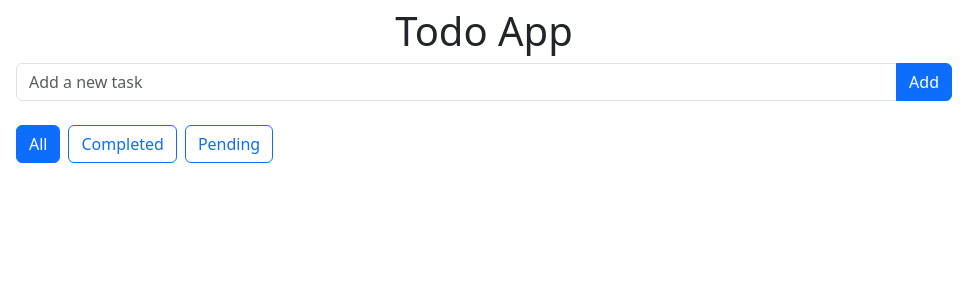
App Component › filters tasks correctly
Note: Add two tasks
Type "Task 1" into the field with placeholder "Add a new task".
click(457, 82); type("Task 1")  # box [16, 63, 897, 101]
Click the button "Add".
click(924, 82)  # box [896, 63, 952, 101]
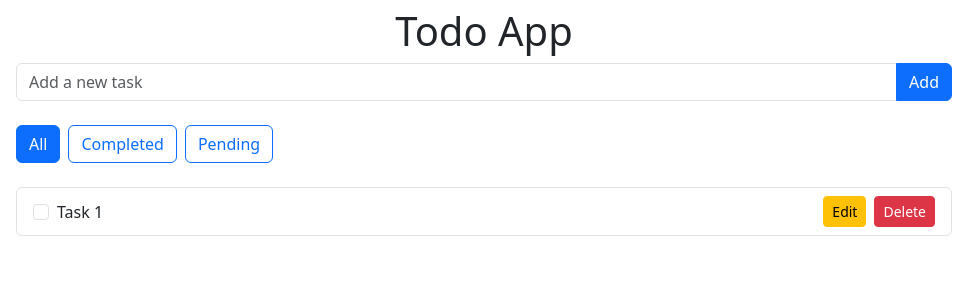
Type "Task 2" into the field with placeholder "Add a new task".
click(457, 82); type("Task 2")  # box [16, 63, 897, 101]
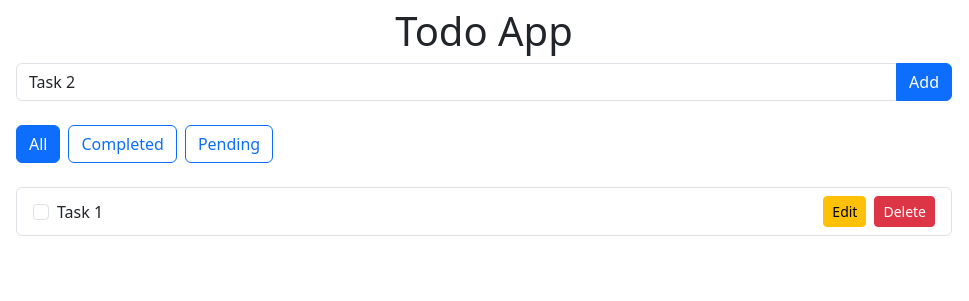
Click the button "Add".
click(924, 82)  # box [896, 63, 952, 101]
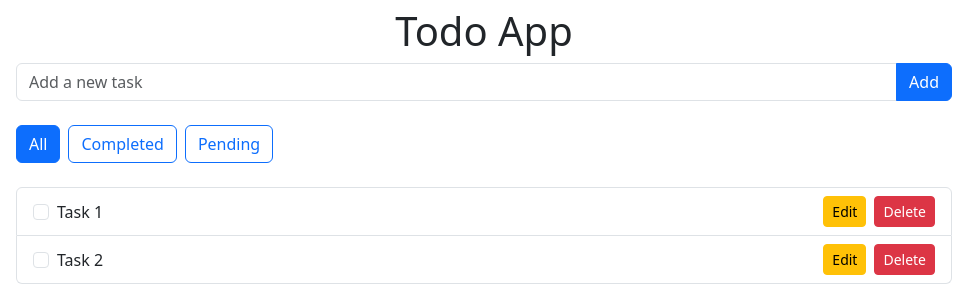
Note: Complete the first task
Click the checkbox next to "Task 1".
click(41, 212)  # box [33, 204, 49, 220]
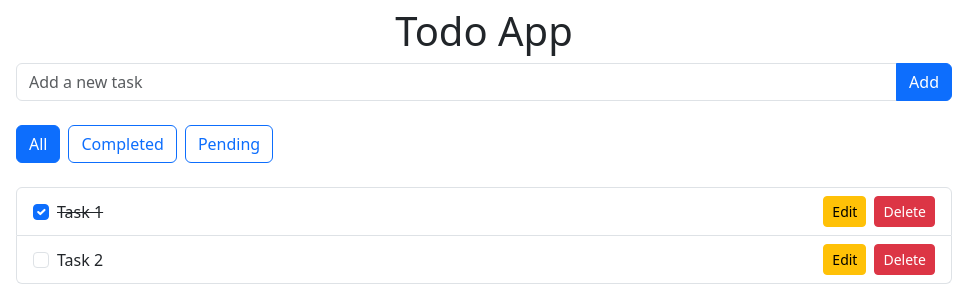
Note: Filter completed tasks
Click the button "Completed".
click(123, 144)  # box [68, 125, 177, 163]
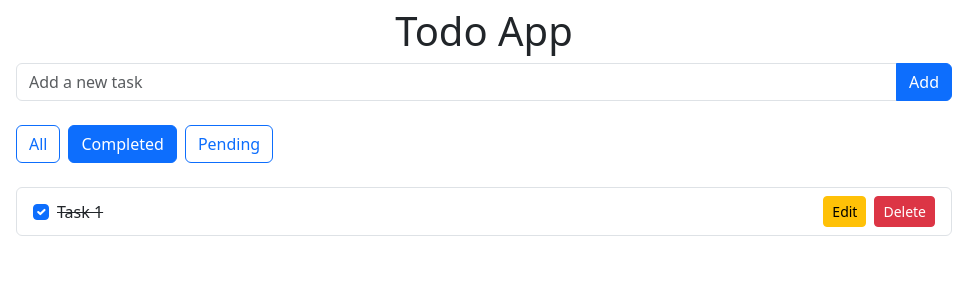
Check: the text "Task 1" is shown, box [57, 200, 103, 222]
Check: the text "Task 2" is gone
Note: Show all tasks
Click the button "All".
click(38, 144)  # box [16, 125, 60, 163]
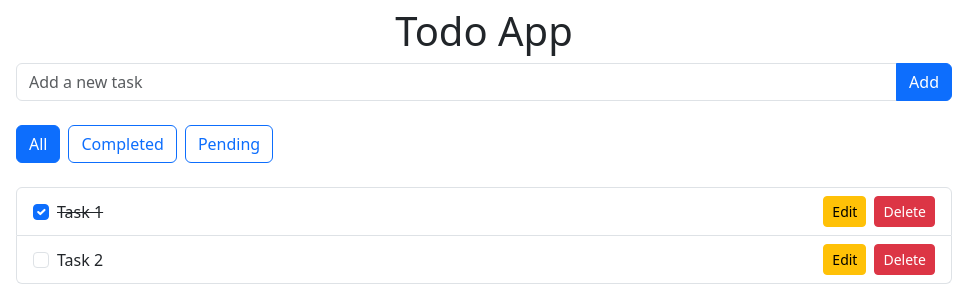
Check: the text "Task 1" is shown, box [57, 200, 103, 222]
Check: the text "Task 2" is shown, box [57, 248, 103, 270]
